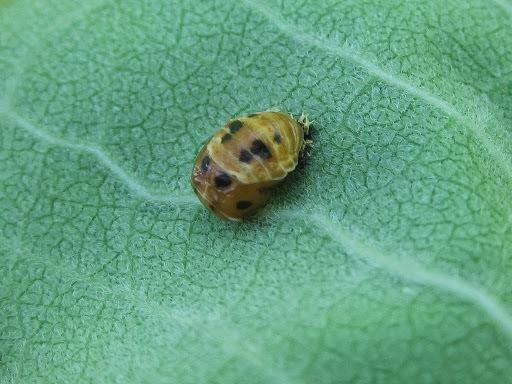ladybug: (191, 108, 319, 225)
